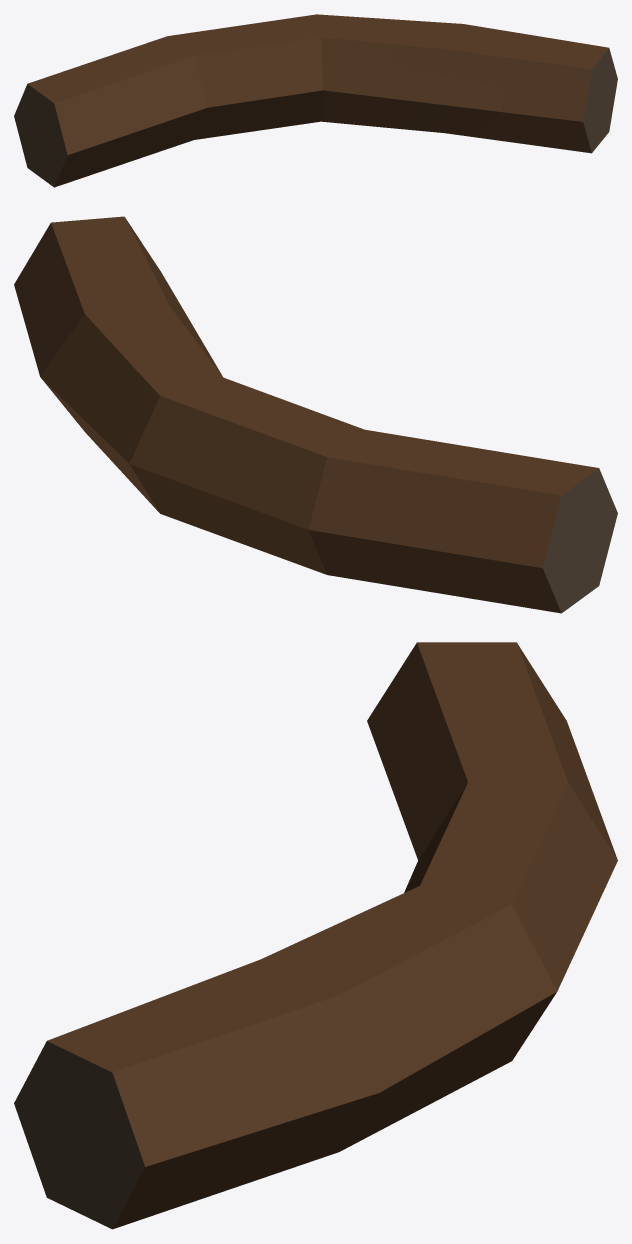
File: Log_2_MY.fbx
3 renders of one model, top to bottom at view 1: azimuth 30°, elevation 25°; view 2: azimuth 150°, elevation 25°; view 3: azimuth 270°, elevation 25°, orthographic. The views are drawn at different scales.
Visible parts, largest first — view 1: Cylinder.001; view 2: Cylinder.001; view 3: Cylinder.001.
Boxes of the visible parts, x1=… form: Cylinder.001: x1=14, y1=14, x2=617, y2=187; Cylinder.001: x1=14, y1=216, x2=617, y2=613; Cylinder.001: x1=14, y1=642, x2=617, y2=1229.
Size of the model in its own units: 82.44 by 13.51 by 47.17.
